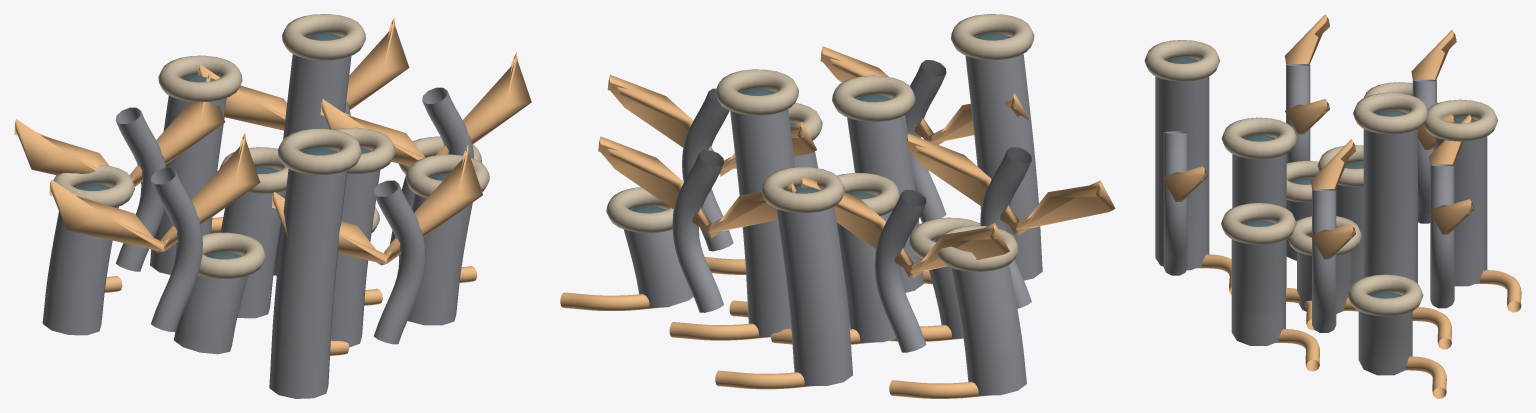
The model's file is bio_thermal_colony_02_near.glb.
3 renders of one model, left to right at view 1: azimuth 30°, elevation 25°; view 2: azimuth 150°, elevation 25°; view 3: azimuth 270°, elevation 25°, orthographic. The views are drawn at different scales.
Visible parts, largest first — view 1: Chimney biofilm.007, Secondary fan lobe.008, Chimney biofilm.009, Secondary fan lobe.002, Secondary fan lobe.006, Branching support.002, Branching support.004, Chimney biofilm.002, Chimney biofilm.005, Secondary fan lobe, Secondary fan lobe.004, Chimney biofilm.004 (+14 smaller); view 2: Chimney biofilm.006, Chimney biofilm.003, Chimney biofilm.007, Chimney biofilm.009, Secondary fan lobe.008, Secondary fan lobe.006, Branching support.001, Branching support.003, Secondary fan lobe.002, Chimney biofilm.002, Chimney biofilm.001, Chimney biofilm.008 (+21 smaller); view 3: Chimney biofilm.003, Chimney biofilm.007, Chimney biofilm.005, Chimney biofilm.006, Chimney biofilm.008, Branching support.002, Branching support.003, Branching support, Chimney biofilm.002, Open vent rim.005, Open vent rim.007, Open vent rim.002 (+23 smaller).
Part boxes in pixels (bbox=[...]): Chimney biofilm.007: bbox=[269, 150, 347, 398]; Secondary fan lobe.008: bbox=[49, 132, 260, 252]; Chimney biofilm.009: bbox=[42, 185, 118, 335]; Secondary fan lobe.002: bbox=[14, 72, 224, 186]; Secondary fan lobe.006: bbox=[198, 17, 409, 130]; Branching support.002: bbox=[373, 180, 425, 344]; Branching support.004: bbox=[151, 168, 202, 331]; Chimney biofilm.002: bbox=[331, 150, 380, 347]; Chimney biofilm.005: bbox=[407, 176, 472, 325]; Secondary fan lobe: bbox=[320, 52, 531, 165]; Secondary fan lobe.004: bbox=[272, 145, 482, 265]; Chimney biofilm.004: bbox=[174, 253, 248, 354]; Chimney biofilm.006: bbox=[776, 189, 852, 385]; Chimney biofilm.003: bbox=[730, 91, 794, 337]; Chimney biofilm.007: bbox=[965, 35, 1042, 280]; Chimney biofilm.009: bbox=[951, 265, 1026, 395]; Secondary fan lobe.008: bbox=[906, 133, 1115, 235]; Secondary fan lobe.006: bbox=[598, 136, 796, 238]; Branching support.001: bbox=[874, 190, 926, 352]; Branching support.003: bbox=[672, 150, 723, 312]; Secondary fan lobe.002: bbox=[801, 176, 1009, 277]; Chimney biofilm.002: bbox=[847, 97, 923, 292]; Chimney biofilm.001: bbox=[837, 194, 903, 342]; Chimney biofilm.008: bbox=[623, 208, 693, 307]; Chimney biofilm.003: bbox=[1363, 112, 1417, 283]; Chimney biofilm.007: bbox=[1155, 59, 1209, 270]; Chimney biofilm.005: bbox=[1231, 222, 1285, 345]; Chimney biofilm.006: bbox=[1433, 119, 1487, 286]; Chimney biofilm.008: bbox=[1358, 294, 1412, 375]; Branching support.002: bbox=[1163, 131, 1187, 275]; Branching support.003: bbox=[1430, 164, 1454, 308]; Branching support: bbox=[1312, 189, 1336, 332]; Chimney biofilm.002: bbox=[1232, 137, 1286, 287]; Open vent rim.005: bbox=[1221, 203, 1296, 244]; Open vent rim.007: bbox=[1144, 40, 1220, 81]; Open vent rim.002: bbox=[1221, 117, 1297, 159].
Bounding box in the file's own units: 1.85 × 0.9095 × 1.39.
